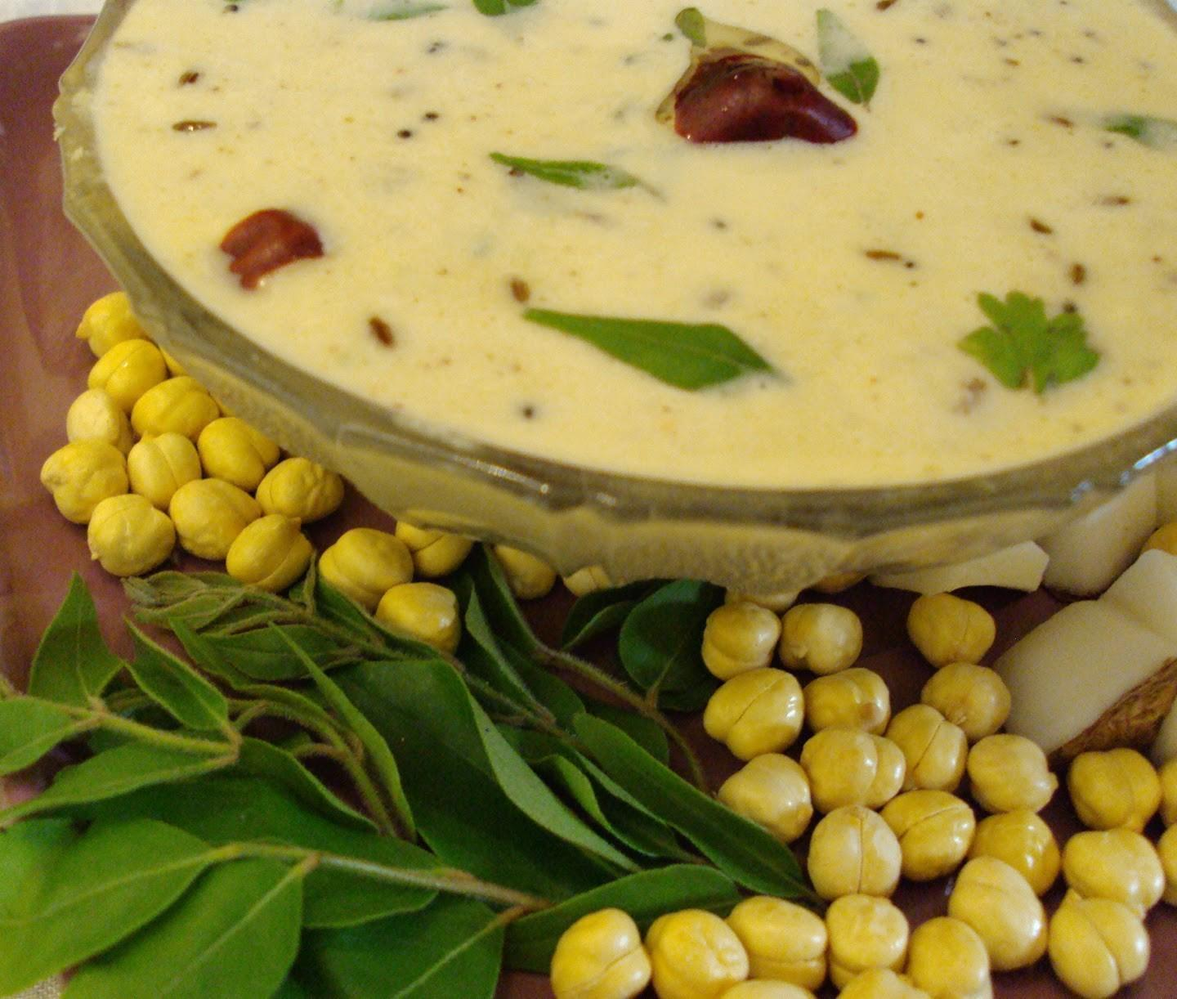CoconutChutney: (102, 0, 1177, 478)
